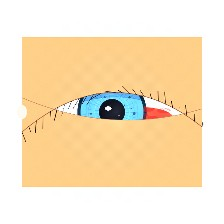hemorrhage_spot: (103, 87, 186, 153)
